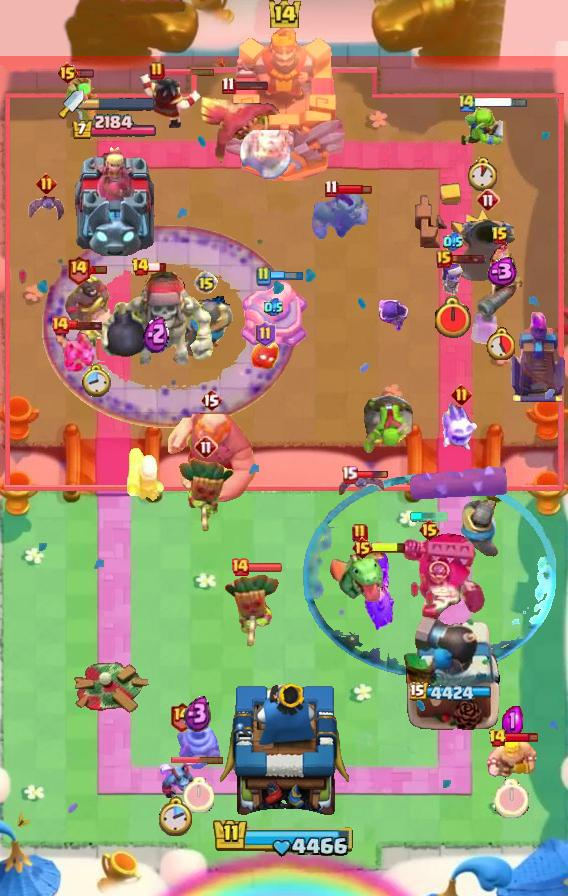axe: (238, 130, 294, 180)
bar: (475, 96, 529, 109), (171, 755, 225, 764), (162, 67, 216, 76), (371, 541, 407, 554), (504, 731, 539, 744), (450, 253, 487, 265), (68, 319, 104, 331), (233, 79, 269, 91), (337, 183, 372, 195), (247, 562, 283, 573), (269, 270, 304, 281), (355, 470, 389, 480), (147, 261, 167, 273), (88, 264, 108, 275), (76, 68, 95, 79)
bar-level: (169, 701, 194, 732), (66, 254, 91, 285), (194, 435, 218, 459), (194, 271, 218, 295), (476, 188, 500, 212), (351, 536, 374, 560), (418, 518, 441, 542), (56, 61, 79, 85), (255, 321, 276, 347), (200, 388, 222, 412), (451, 384, 472, 405), (36, 173, 57, 194), (457, 92, 477, 113), (230, 557, 250, 577), (50, 315, 70, 335), (488, 728, 507, 748), (131, 257, 150, 277), (491, 226, 509, 246), (341, 465, 358, 484), (352, 523, 368, 543), (255, 266, 271, 286), (149, 61, 165, 81), (436, 250, 452, 268), (324, 179, 339, 198), (221, 76, 236, 95)
barbarian: (484, 735, 540, 779)
bat: (336, 474, 388, 498), (26, 193, 66, 223)
bomber-evolution: (362, 551, 396, 633)
cannoneer-tower: (402, 615, 504, 731)
clock: (433, 296, 473, 340), (159, 796, 194, 838), (495, 779, 529, 818), (466, 157, 500, 192), (183, 777, 214, 813), (80, 362, 111, 397), (486, 327, 515, 360)
dagger-duchess-tower: (70, 142, 158, 256)
dagger-duchess-tower-bar: (84, 97, 156, 111)
dart-goblin: (223, 570, 283, 648), (176, 456, 236, 532)
electro-wizard: (136, 71, 202, 129)
elixir: (184, 695, 212, 732), (483, 257, 518, 286), (143, 315, 169, 353), (502, 706, 523, 736), (443, 232, 463, 252), (264, 298, 283, 317)
fire-spirit: (249, 338, 281, 372)
firecracker: (125, 445, 167, 503)
goblin: (459, 103, 507, 148)
goblin-ball: (360, 394, 414, 456)
goblin-brawler: (312, 192, 370, 246)
ice-spirit-evolution: (441, 402, 481, 452)
king-tower: (220, 21, 348, 181), (220, 678, 349, 826)
king-tower-bar: (212, 817, 356, 859)
knight: (177, 296, 235, 357), (461, 500, 500, 558)
minion: (55, 328, 97, 374), (155, 758, 197, 798)
mortar: (457, 216, 519, 284)
musketeer: (472, 243, 528, 321)
skeleton-evolution: (379, 300, 410, 336), (440, 261, 466, 297)
spear-goblin: (60, 75, 104, 123)
the-log: (409, 464, 509, 502)
tower-bar: (71, 114, 158, 141), (410, 682, 496, 704)
zappy: (175, 715, 221, 769)
